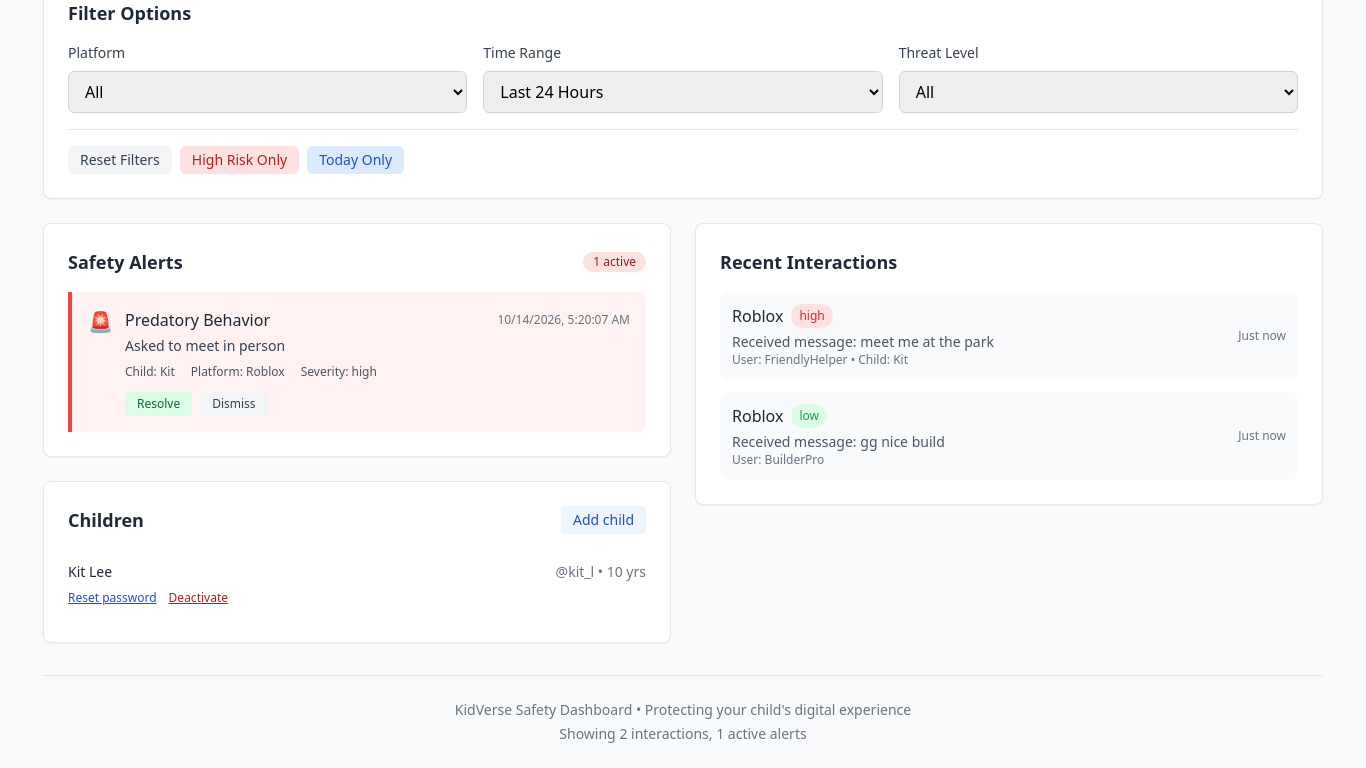
Test: Dashboard children › managing an existing child › resets a password and closes the form
(page scrolled)
Click the button named "Reset password for Kit" at (112, 598), box [68,590,157,606]
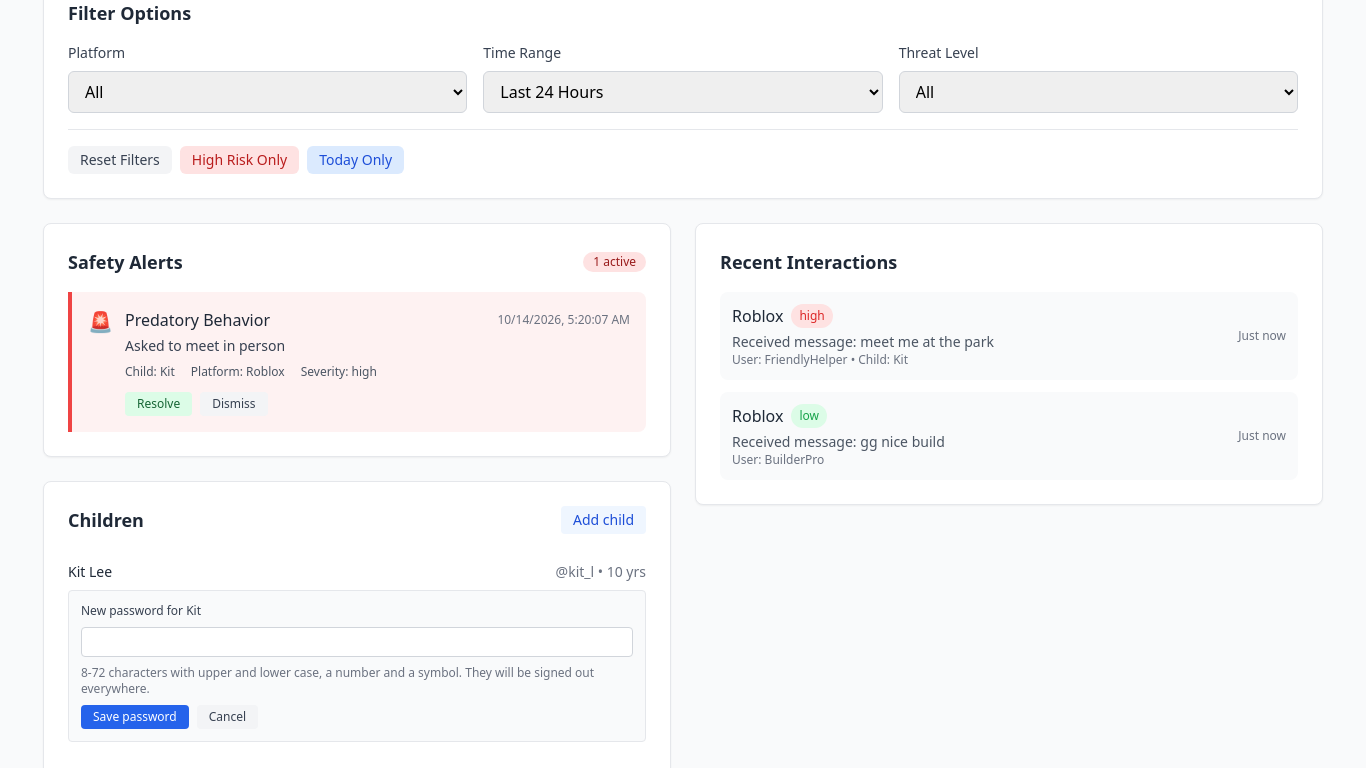
Type "Brand9!NewPass" into the password field labelled "New password for Kit" at (357, 642), box [81,627,633,657]
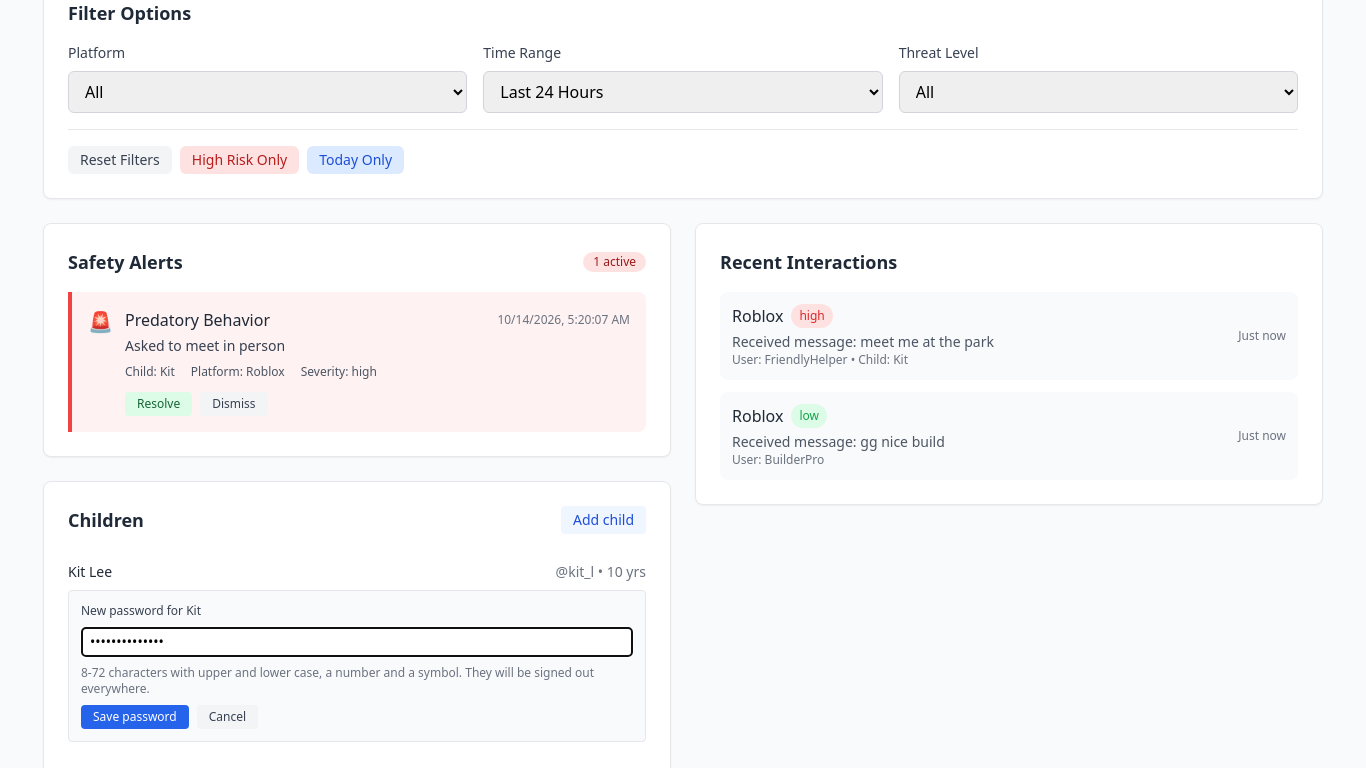
Click the button "Save password" at (135, 717), box [81,705,189,729]
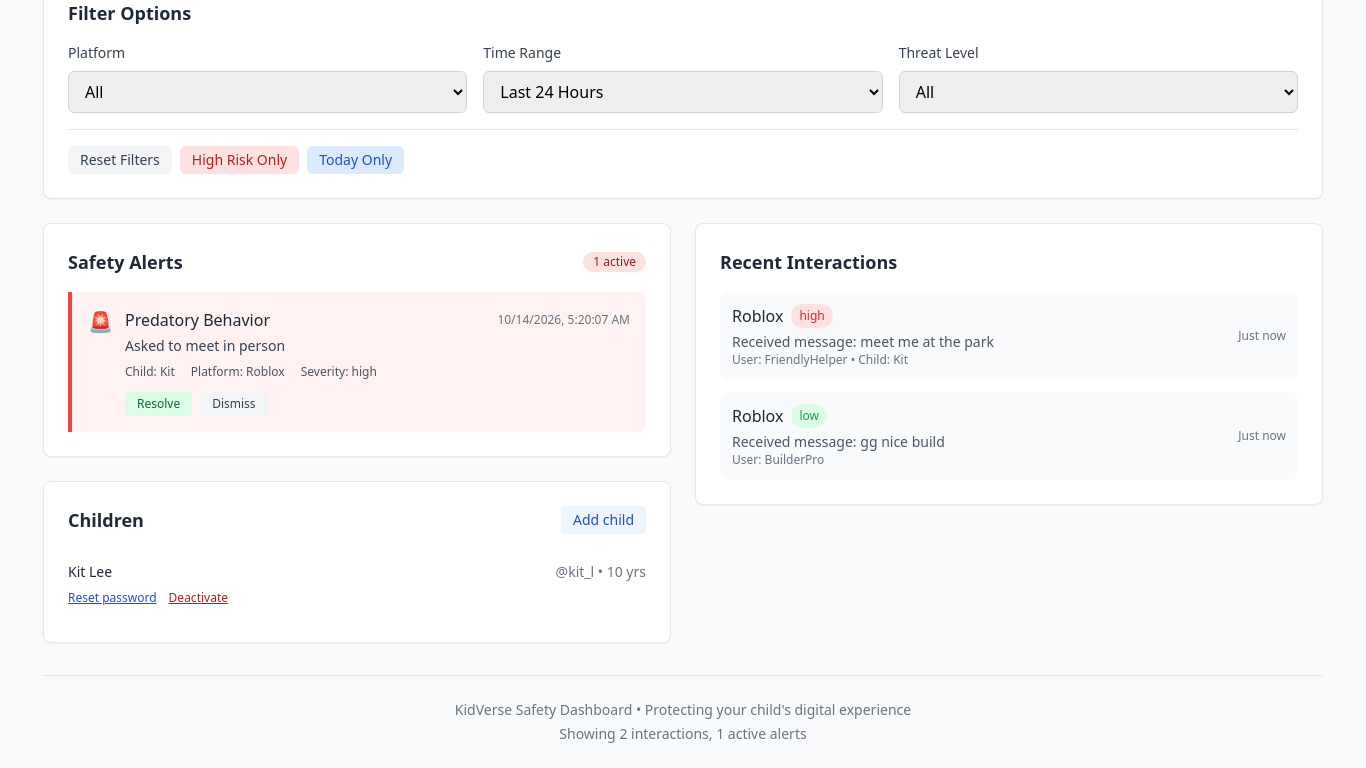
Expected: the label labelled "New password for Kit" is gone
